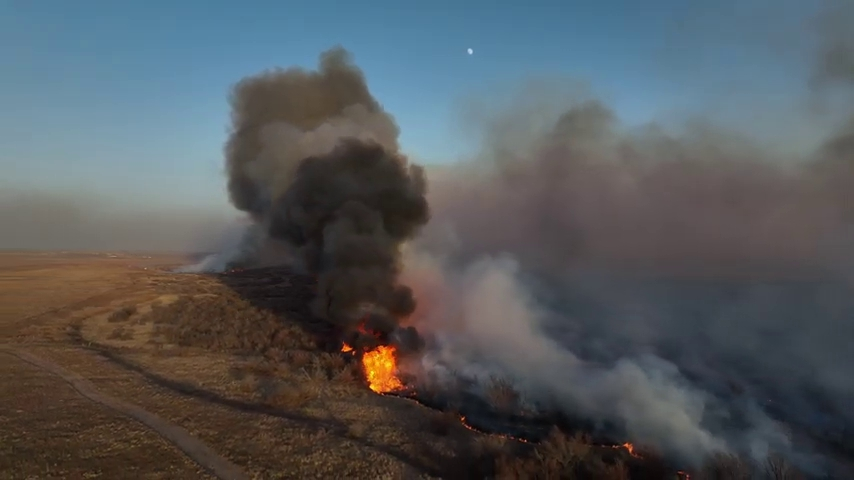forest_fire: (361, 345, 403, 394), (607, 442, 642, 458), (341, 343, 357, 352)
